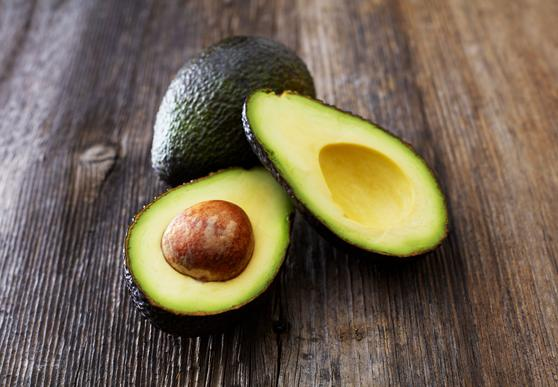avocado: (150, 36, 320, 186)
